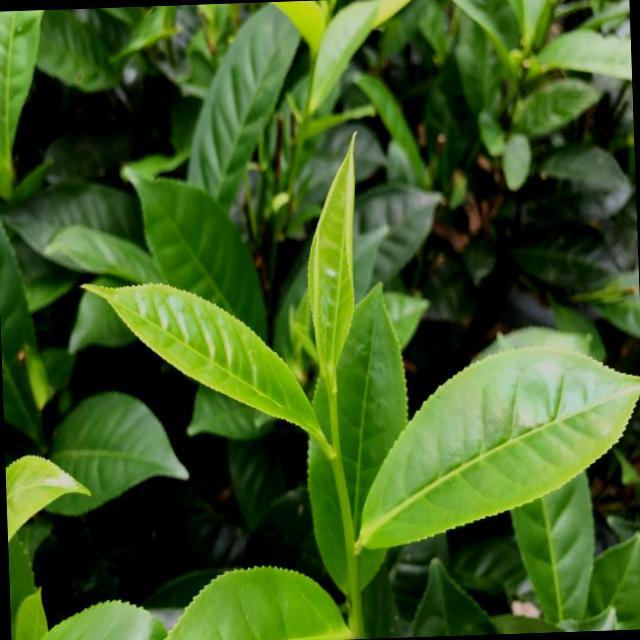Stem: (331, 455, 344, 474)
